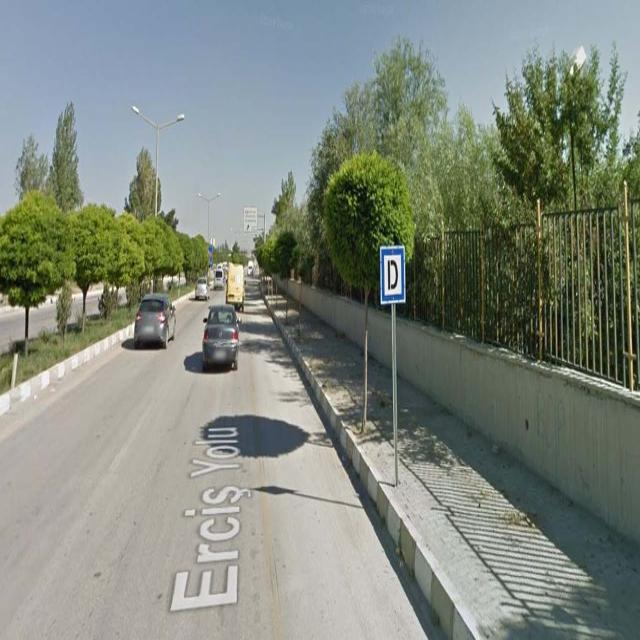durak: (379, 246, 405, 303)
